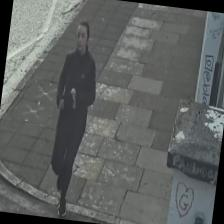person: (41, 17, 103, 216)
